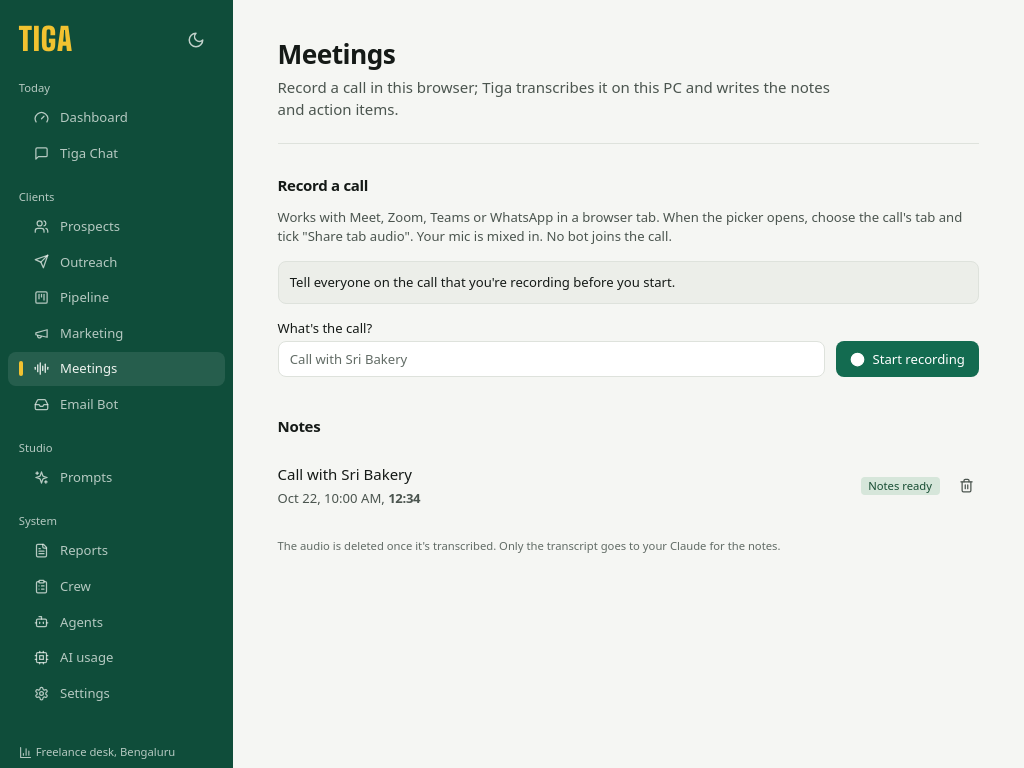
Test: Meetings › opens the notes and the transcript
The width and height of the screenshot is (1024, 768).
Click the button "Call with Sri Bakery Oct 22, 10:00 AM, 12:34".
click(345, 474)  # box left=278, top=463, right=846, bottom=508
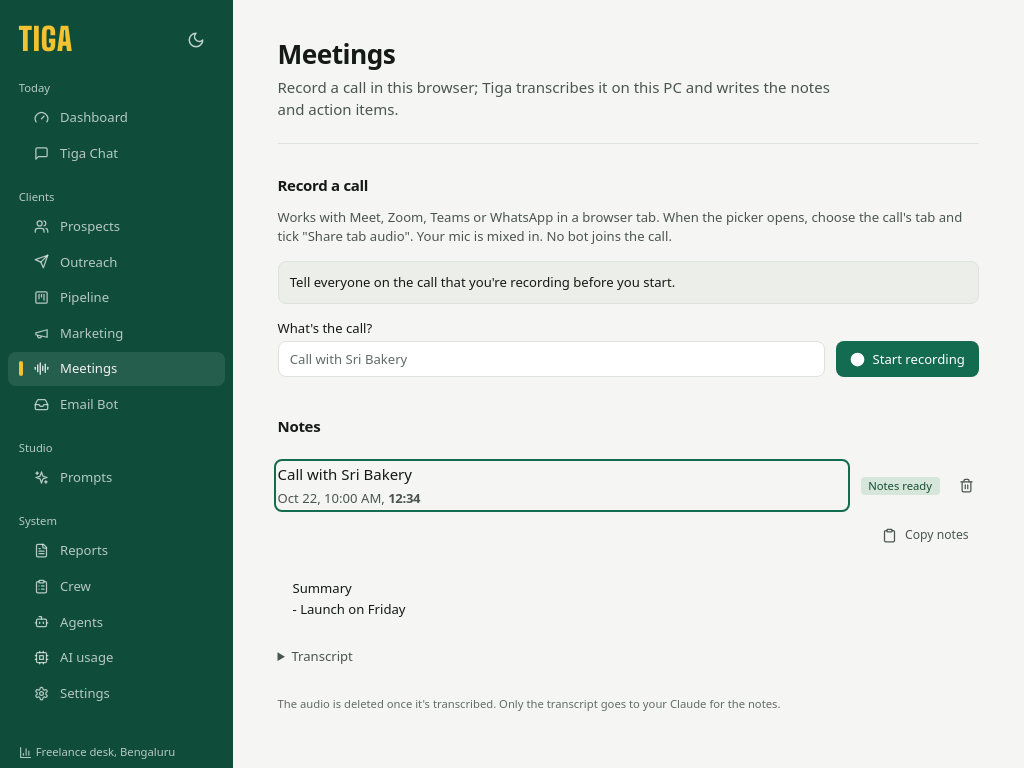
Now the text "Summary - Launch on Friday" is shown, box left=278, top=563, right=979, bottom=636
Now the button "Copy notes" is shown, box left=872, top=520, right=979, bottom=552
